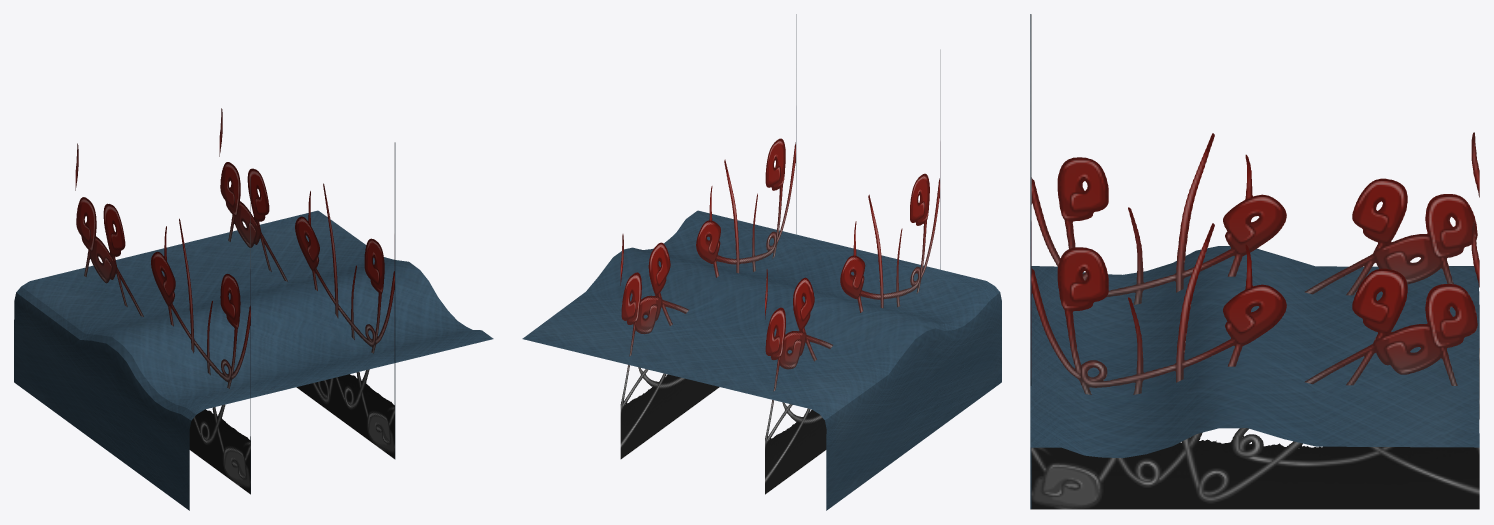
The model's file is tl1_9_spikes.FBX.
The picture shows the model from 3 angles, left to right: view 1: azimuth 30°, elevation 25°; view 2: azimuth 150°, elevation 25°; view 3: azimuth 270°, elevation 25°; orthographic projection. The views are drawn at different scales.
Visible parts, largest first — view 1: tl_mid003, Plane002, Plane001; view 2: tl_mid003, Plane002, Plane001; view 3: tl_mid003, Plane002, Plane001.
Part boxes in pixels (box(x1,y1,x2,y2)): tl_mid003: box(14, 210, 493, 510); Plane002: box(219, 108, 395, 459); Plane001: box(75, 143, 250, 494); tl_mid003: box(522, 210, 1001, 510); Plane002: box(620, 14, 796, 459); Plane001: box(765, 49, 940, 494); tl_mid003: box(1030, 246, 1479, 458); Plane002: box(1030, 104, 1479, 509); Plane001: box(1030, 14, 1479, 419).
Size of the model in its own units: 100 by 100 by 100.
